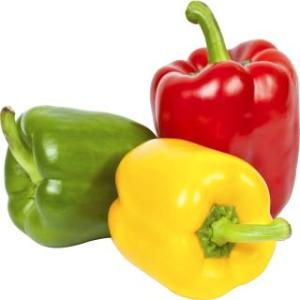bell_pepper: (152, 2, 298, 230), (108, 138, 290, 298), (1, 98, 155, 246)
